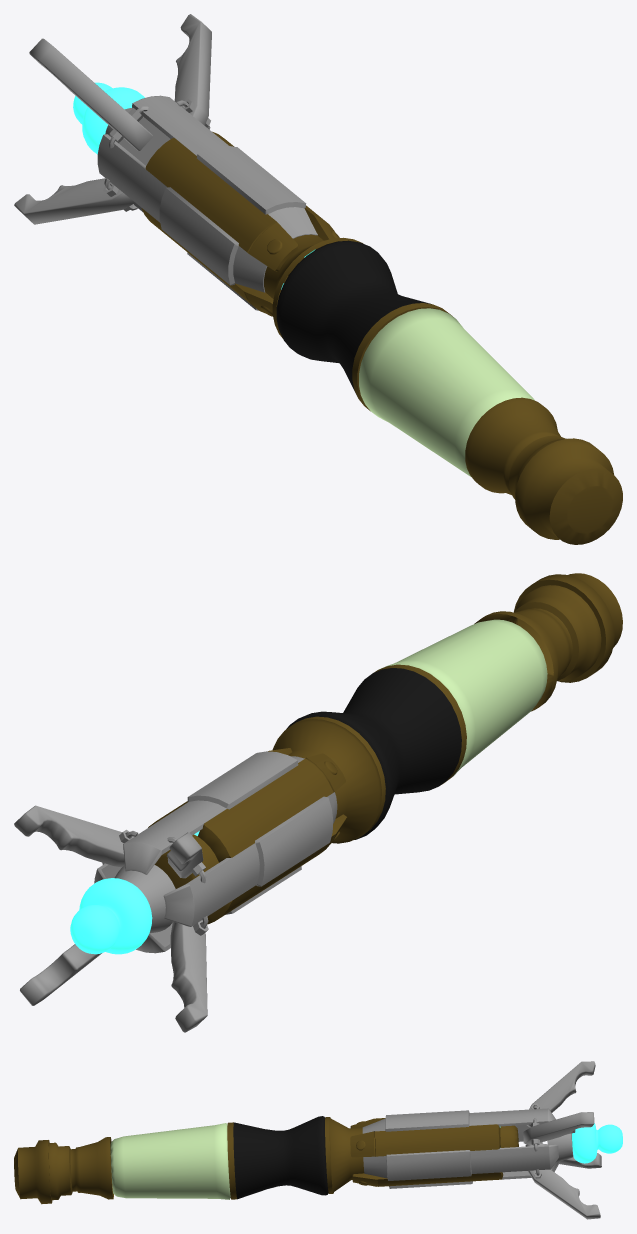
The model's file is Sonic Screwdriver.dae.
The picture shows the model from 3 angles, top to bottom: view 1: azimuth 30°, elevation 25°; view 2: azimuth 150°, elevation 25°; view 3: azimuth 270°, elevation 25°; orthographic projection. The views are drawn at different scales.
Parts seen in each view (by area): view 1: screwdriver, DrawCall_0374, DrawCall_0378, DrawCall_0377, DrawCall_0376; view 2: DrawCall_0374, screwdriver, DrawCall_0377, DrawCall_0378, DrawCall_0376; view 3: screwdriver, DrawCall_0374, DrawCall_0378, DrawCall_0377, DrawCall_0376.
Boxes of the visible parts, bbox=[...] form: screwdriver: bbox=[141, 131, 622, 544]; DrawCall_0374: bbox=[14, 14, 317, 310]; DrawCall_0378: bbox=[359, 308, 534, 476]; DrawCall_0377: bbox=[276, 240, 431, 396]; DrawCall_0376: bbox=[73, 82, 315, 289]; DrawCall_0374: bbox=[14, 751, 337, 1032]; screwdriver: bbox=[148, 573, 622, 924]; DrawCall_0377: bbox=[286, 668, 461, 839]; DrawCall_0378: bbox=[379, 619, 547, 776]; DrawCall_0376: bbox=[70, 831, 199, 954]; screwdriver: bbox=[14, 1117, 518, 1204]; DrawCall_0374: bbox=[362, 1061, 601, 1219]; DrawCall_0378: bbox=[110, 1123, 230, 1199]; DrawCall_0377: bbox=[233, 1116, 328, 1199]; DrawCall_0376: bbox=[500, 1123, 622, 1163].
Size of the model in its own units: 1.07 by 1.07 by 5.03.
